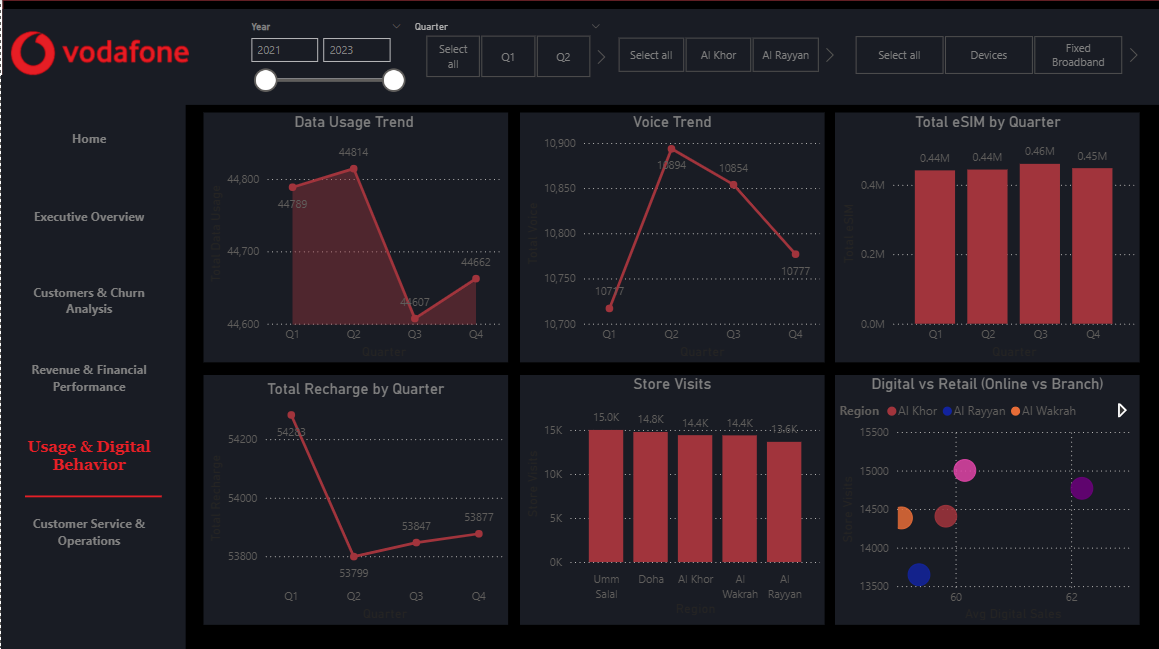

This screenshot's page, from the dashboard's own definition file:
{"tool":"powerbi","page":{"name":"Usage & Digital Behavior","canvas":[1280,720],"ordinal":4},"visuals":[{"type":"shape","box":[1.6,0.4,1278.4,719.6],"z":0},{"type":"shape","box":[1.6,10,1278.4,105.9],"z":1000},{"type":"shape","box":[0,82.4,203.9,637.3],"z":2000},{"type":"image","box":[0,0,227.5,119.6],"z":3000},{"type":"pageNavigator","box":[25.9,133.4,151.4,501.9],"z":4000},{"type":"slicer","fields":{"Values":["Vodafone qatar dataset.Year"]},"box":[262.7,18.9,190.9,85],"z":5000},{"type":"slicer","fields":{"Values":["Vodafone qatar dataset.Quarter"]},"box":[444.1,18.9,230.6,73.7],"z":6000},{"type":"slicer","fields":{"Values":["Vodafone qatar dataset.Region"]},"box":[661.4,39.7,260.8,41.6],"z":7000},{"type":"slicer","fields":{"Values":["Vodafone qatar dataset.Segment"]},"box":[922.2,37.8,334.5,43.5],"z":8000},{"type":"shape","box":[223,124.7,336.4,275.9],"z":9000},{"type":"shape","box":[573.2,124.6,336.4,275.9],"z":10000},{"type":"shape","box":[920.8,124.6,336.4,275.9],"z":11000},{"type":"shape","box":[223,413.9,336.4,275.9],"z":12000},{"type":"shape","box":[573.2,413.8,336.4,275.9],"z":13000},{"type":"shape","box":[920.8,413.7,336.4,275.9],"z":14000},{"type":"areaChart","title":"Data Usage Trend","fields":{"Category":["Vodafone qatar dataset.Quarter"],"Y":["Vodafone qatar dataset.Total Data Usage"]},"box":[223,124.7,332.6,275.9],"z":15000},{"type":"lineChart","title":"Voice Trend","fields":{"Y":["Vodafone qatar dataset.Total Voice"],"Category":["Vodafone qatar dataset.Quarter"]},"box":[572.6,124.7,336.4,275.9],"z":16000},{"type":"clusteredColumnChart","fields":{"Category":["Vodafone qatar dataset.Quarter"],"Y":["Vodafone qatar dataset.Total eSIM"]},"box":[922.2,124.7,334.5,275.9],"z":17000},{"type":"lineChart","fields":{"Category":["Vodafone qatar dataset.Quarter"],"Y":["Vodafone qatar dataset.Total Recharge"]},"box":[223,419.5,336.4,270.2],"z":18000},{"type":"clusteredColumnChart","title":"Store Visits","fields":{"Category":["Vodafone qatar dataset.Region"],"Y":["Vodafone qatar dataset.Store Visits"]},"box":[572.6,413.9,336.4,270.2],"z":19000},{"type":"scatterChart","title":"Digital vs Retail (Online vs Branch)","fields":{"X":["Vodafone qatar dataset.Avg Digital Sales"],"Y":["Vodafone qatar dataset.Store Visits"],"Series":["Vodafone qatar dataset.Region"],"Size":["Sum(Vodafone qatar dataset.Subscribers)"]},"box":[920.3,413.9,336.4,275.9],"z":20000}]}

Visuals, with their boxes in screenshot pixels (x1, y1, x2, y2), scaled from the page's 1280x720 canvas onto the 1159x649 screenshot:
shape: detection(1, 0, 1158, 648)
shape: detection(1, 9, 1158, 104)
shape: detection(0, 74, 185, 648)
image: detection(0, 0, 206, 108)
pageNavigator: detection(23, 120, 161, 573)
slicer - Vodafone qatar dataset.Year: detection(238, 17, 411, 94)
slicer - Vodafone qatar dataset.Quarter: detection(402, 17, 611, 83)
slicer - Vodafone qatar dataset.Region: detection(599, 36, 835, 73)
slicer - Vodafone qatar dataset.Segment: detection(835, 34, 1138, 73)
shape: detection(202, 112, 507, 361)
shape: detection(519, 112, 824, 361)
shape: detection(834, 112, 1138, 361)
shape: detection(202, 373, 507, 622)
shape: detection(519, 373, 824, 622)
shape: detection(834, 373, 1138, 622)
"Data Usage Trend" areaChart: detection(202, 112, 503, 361)
"Voice Trend" lineChart: detection(518, 112, 823, 361)
clusteredColumnChart - Vodafone qatar dataset.Quarter x Vodafone qatar dataset.Total eSIM: detection(835, 112, 1138, 361)
lineChart - Vodafone qatar dataset.Quarter x Vodafone qatar dataset.Total Recharge: detection(202, 378, 507, 622)
"Store Visits" clusteredColumnChart: detection(518, 373, 823, 617)
"Digital vs Retail (Online vs Branch)" scatterChart: detection(833, 373, 1138, 622)
